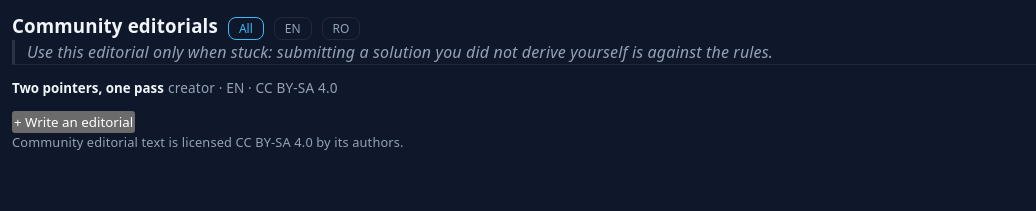
CommunityEditorialsPanel › lists rows with the license note and opens a body
This screenshot has width=1036, height=211.
Expected: the text "creator · EN · CC BY-SA 4.0" is shown, [168,78,338,97]
What coordinates should you click on to do the following:
click the button with test id "ce-row-11"
I would click on:
 (88, 88)
Its box is [12,79,164,97].
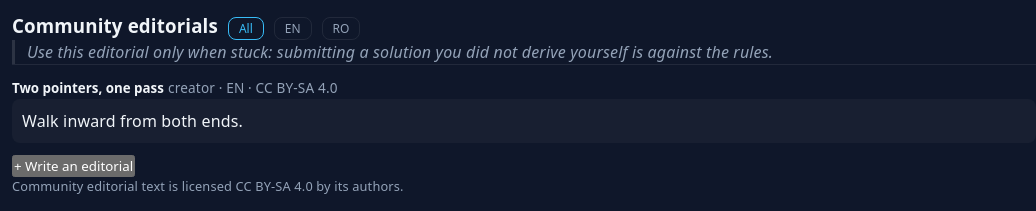
Result: the text with test id "ce-body-11" shows "Walk inward" at [22,110,243,132]
